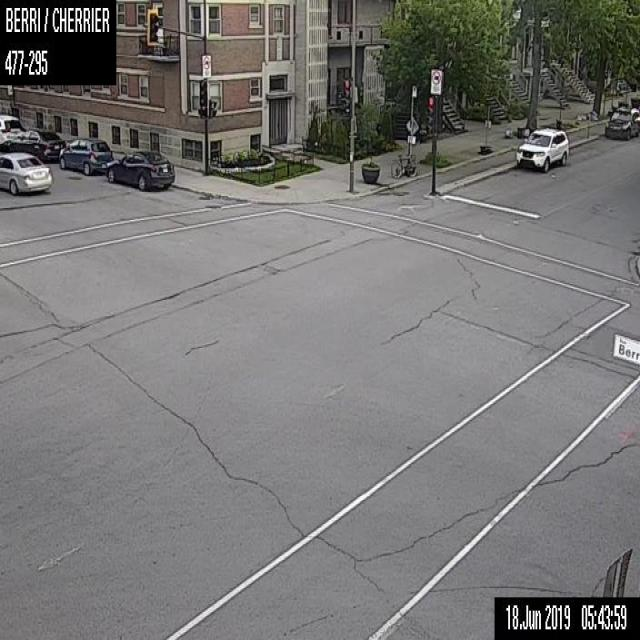vehicle: (106, 150, 174, 189), (515, 127, 568, 171), (0, 152, 52, 196), (0, 128, 65, 160), (59, 138, 113, 173), (604, 105, 639, 140), (0, 114, 25, 142)
